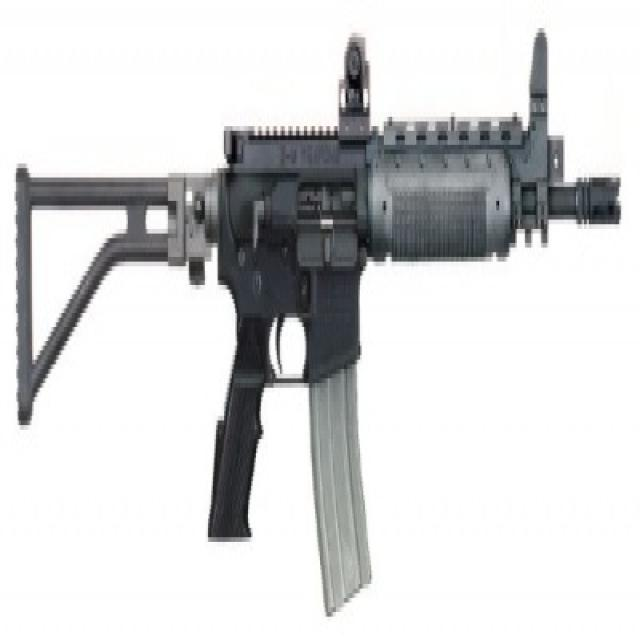rifle: (9, 28, 640, 625)
